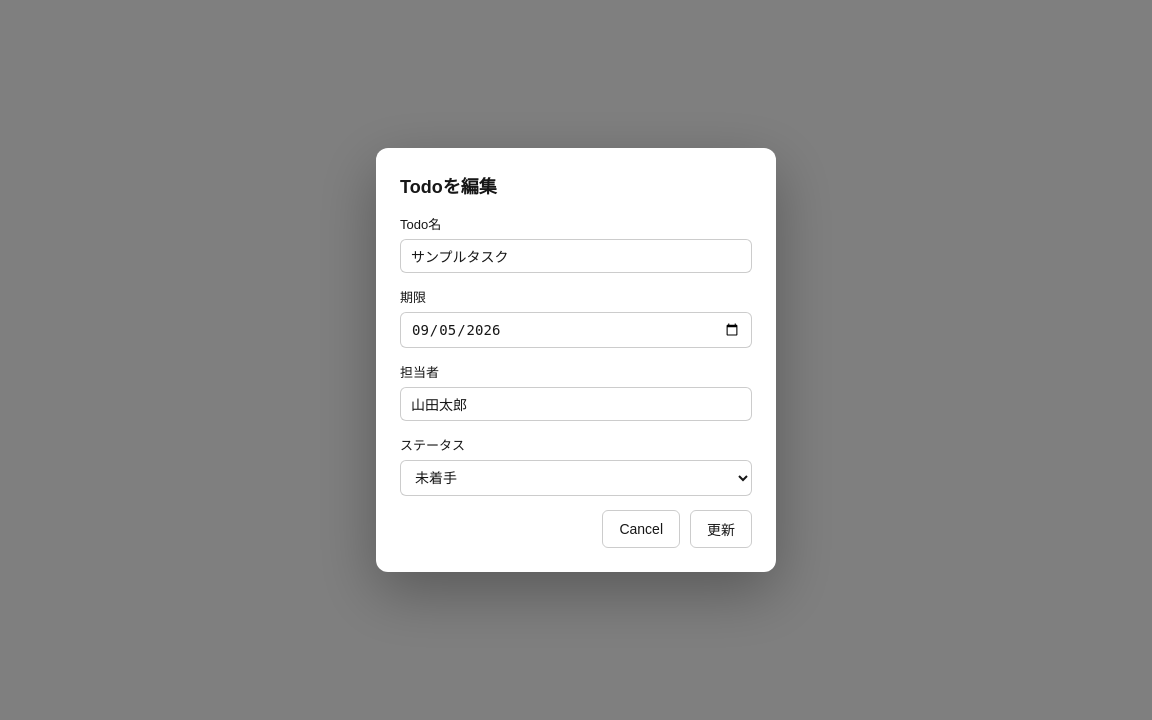
Test: TodoEditModal › shows a failure message and keeps input when the update request fails
This screenshot has width=1152, height=720.
Replace the text in the field labelled "Todo名" with "編集中タスク" at (576, 256), box top-left (400, 239), bottom-right (752, 273)
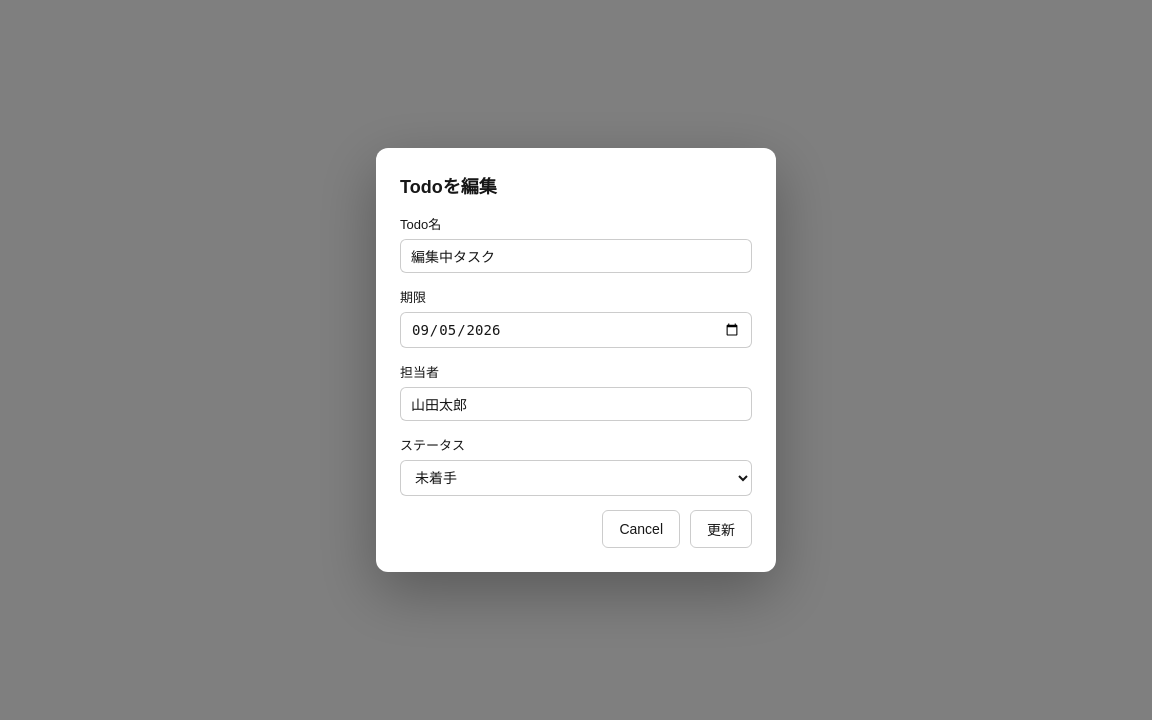
Click the button "更新" at (721, 529), box top-left (690, 510), bottom-right (752, 548)
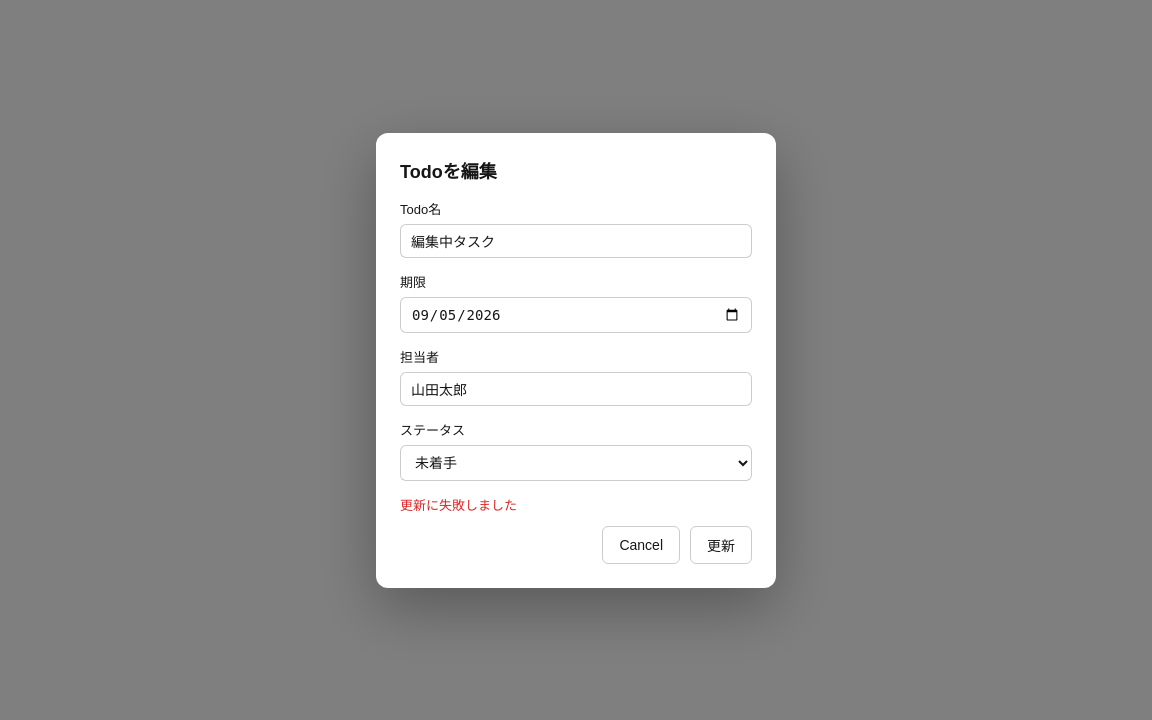
Expected: the text "更新に失敗しました" is shown, top-left (400, 498), bottom-right (517, 512)
